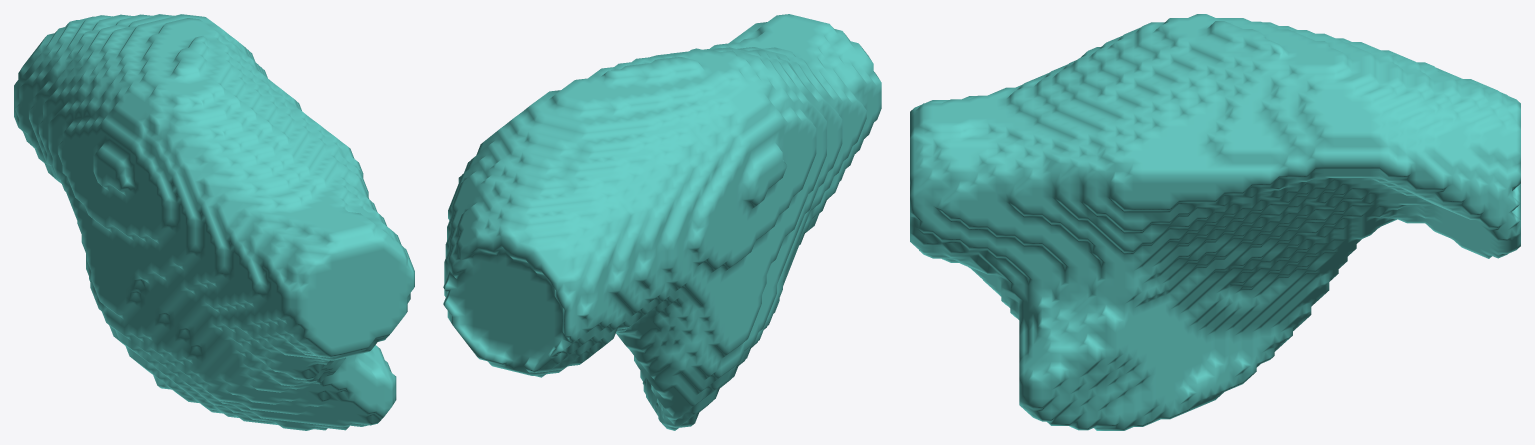
The picture shows the model from 3 angles, left to right: view 1: azimuth 30°, elevation 25°; view 2: azimuth 150°, elevation 25°; view 3: azimuth 270°, elevation 25°; orthographic projection. The views are drawn at different scales.
Parts seen in each view (by area): view 1: structure; view 2: structure; view 3: structure.
Part boxes in pixels (bbox=[...]): structure: bbox=[14, 14, 414, 430]; structure: bbox=[443, 14, 881, 430]; structure: bbox=[910, 14, 1520, 430].
Bounding box in the file's own units: 43.2 × 70.4 × 107.
